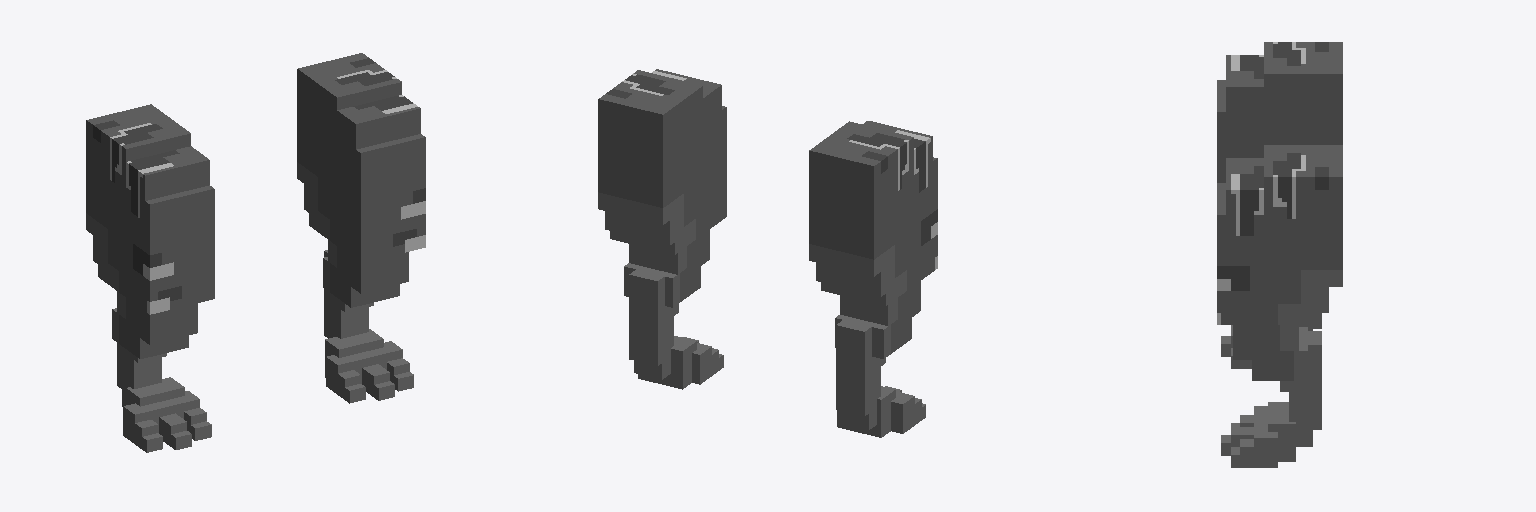
The picture shows the model from 3 angles: view 1: azimuth 30°, elevation 25°; view 2: azimuth 150°, elevation 25°; view 3: azimuth 270°, elevation 25°; orthographic projection.
Parts seen in each view (by area): view 1: Model; view 2: Model; view 3: Model.
Part boxes in pixels (bbox=[...]): Model: bbox=[86, 53, 425, 452]; Model: bbox=[598, 69, 937, 437]; Model: bbox=[1217, 42, 1342, 467].
Size of the model in its own units: 68 by 69 by 27.
Materials: 1 (1 with a texture image).